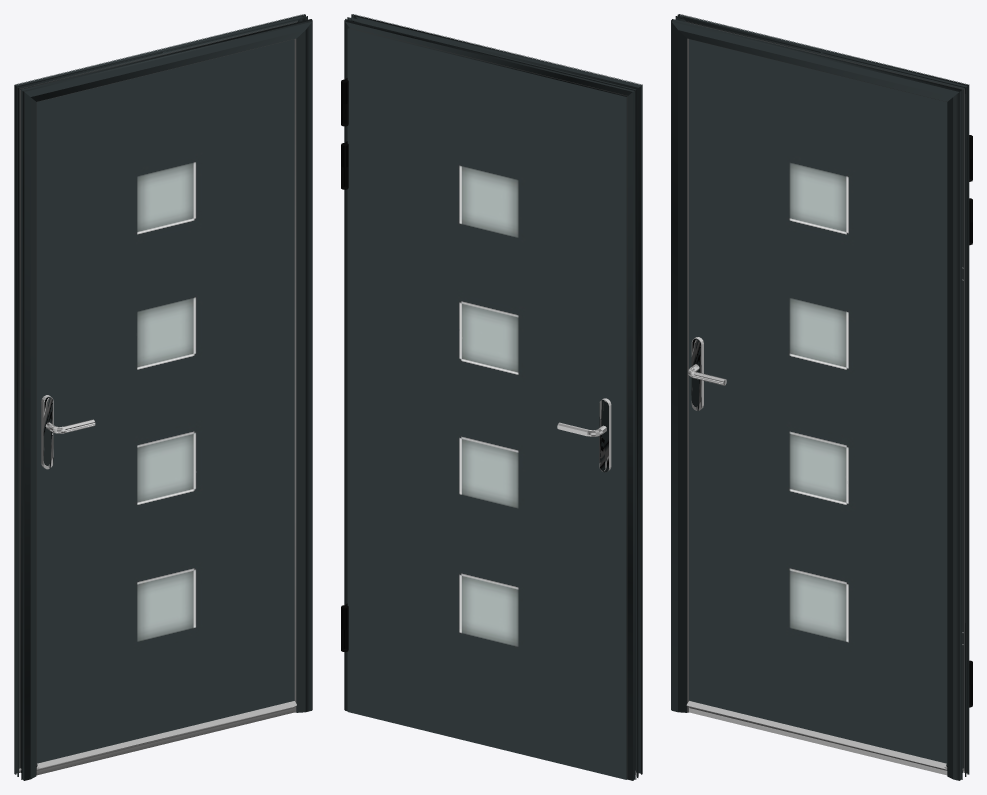
3 views of the same model, side by side, from view 1: azimuth 30°, elevation 25°; view 2: azimuth 150°, elevation 25°; view 3: azimuth 330°, elevation 25° (orthographic).
Visible parts, largest first — view 1: ouvrant, 50, puxador; view 2: ouvrant, 50, puxador; view 3: ouvrant, 50, puxador.
Part boxes in pixels (x1,y1,x2,y2): ouvrant: [19, 21, 297, 770]; 50: [14, 14, 312, 780]; puxador: [41, 395, 53, 469]; ouvrant: [341, 28, 627, 779]; 50: [341, 14, 642, 780]; puxador: [599, 398, 611, 472]; ouvrant: [685, 21, 972, 770]; 50: [671, 14, 972, 780]; puxador: [691, 337, 703, 410].
Bounding box in the file's own units: 96 × 218 × 19.09.
Materials: 1 (1 with a texture image).
